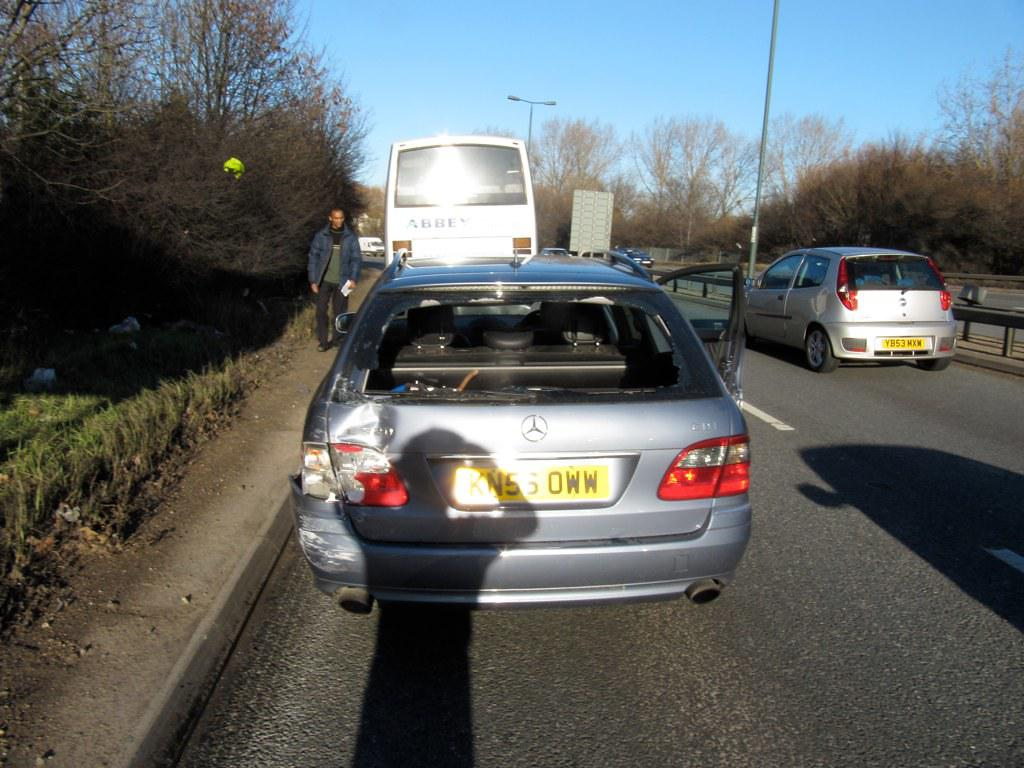boot-dent: (305, 392, 502, 520)
rear-bumper-dent: (295, 516, 432, 588)
